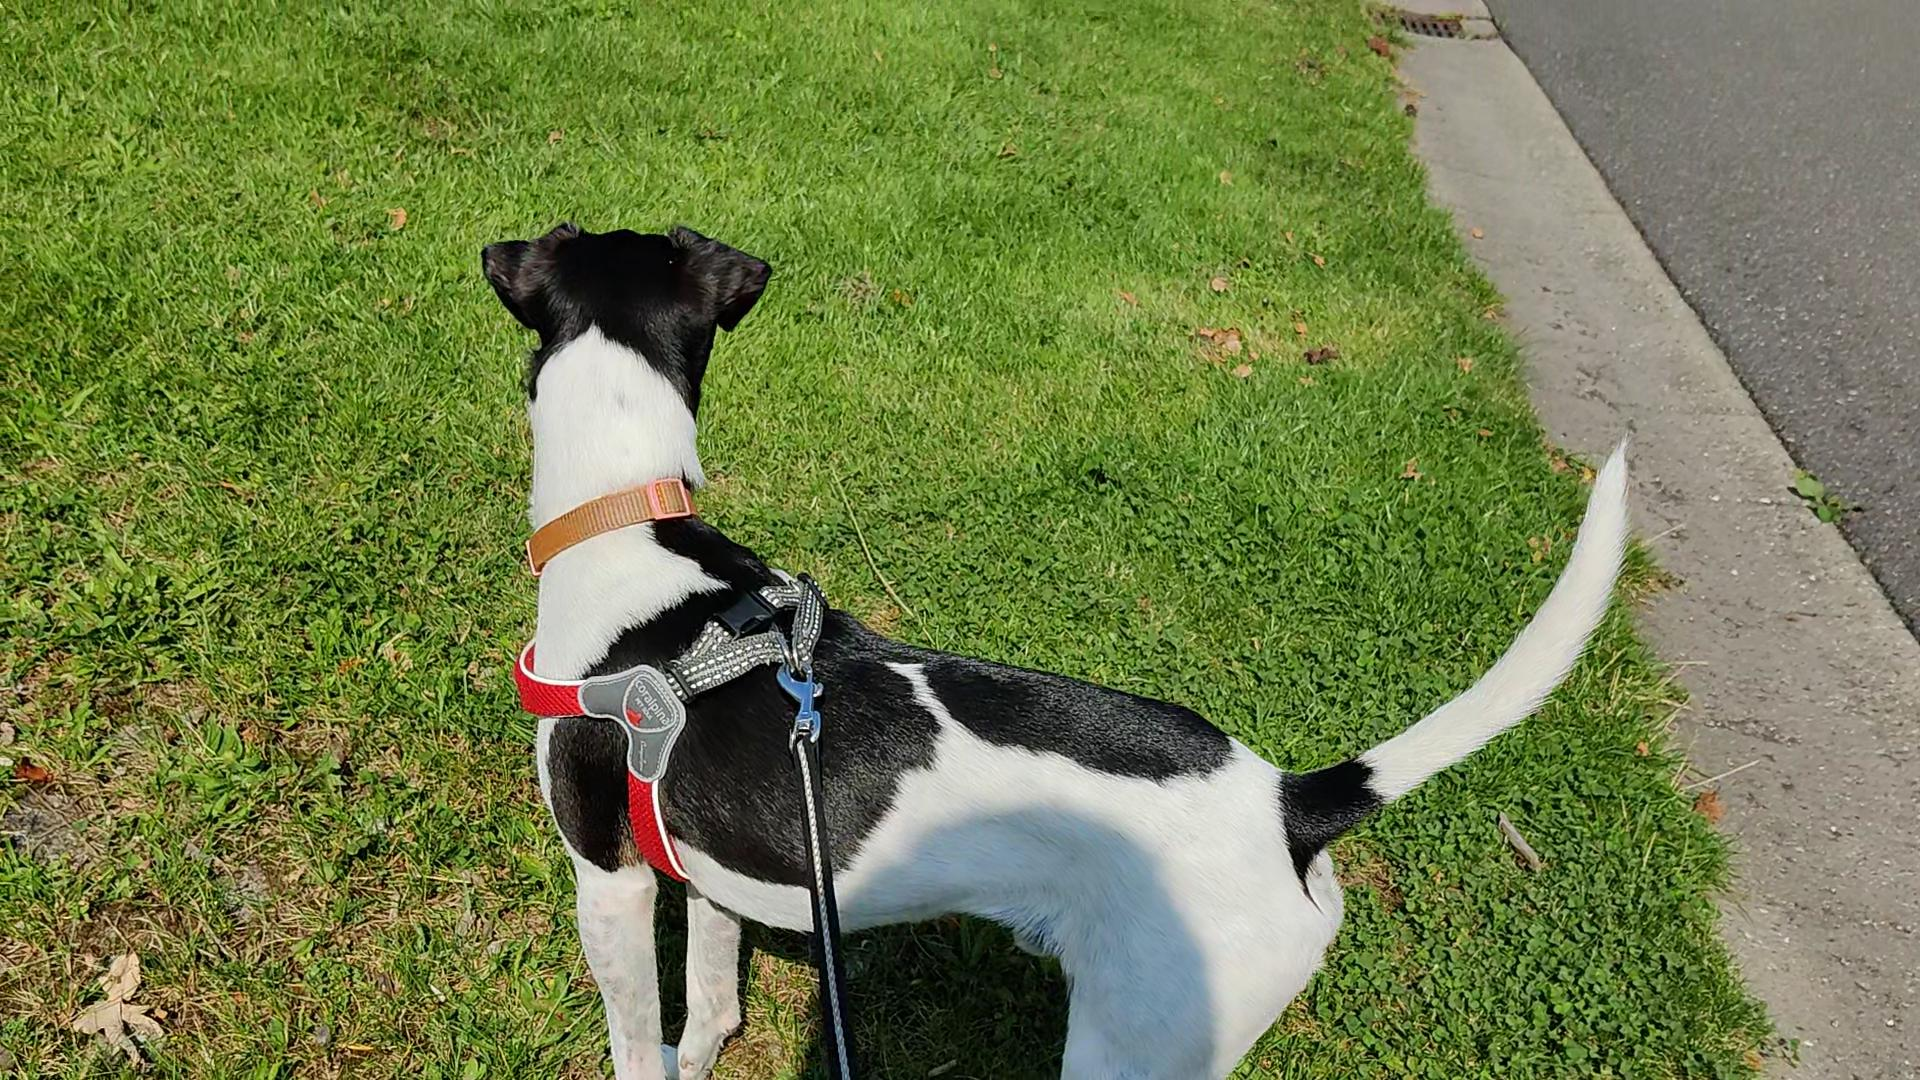Dog: (462, 200, 1648, 1079)
